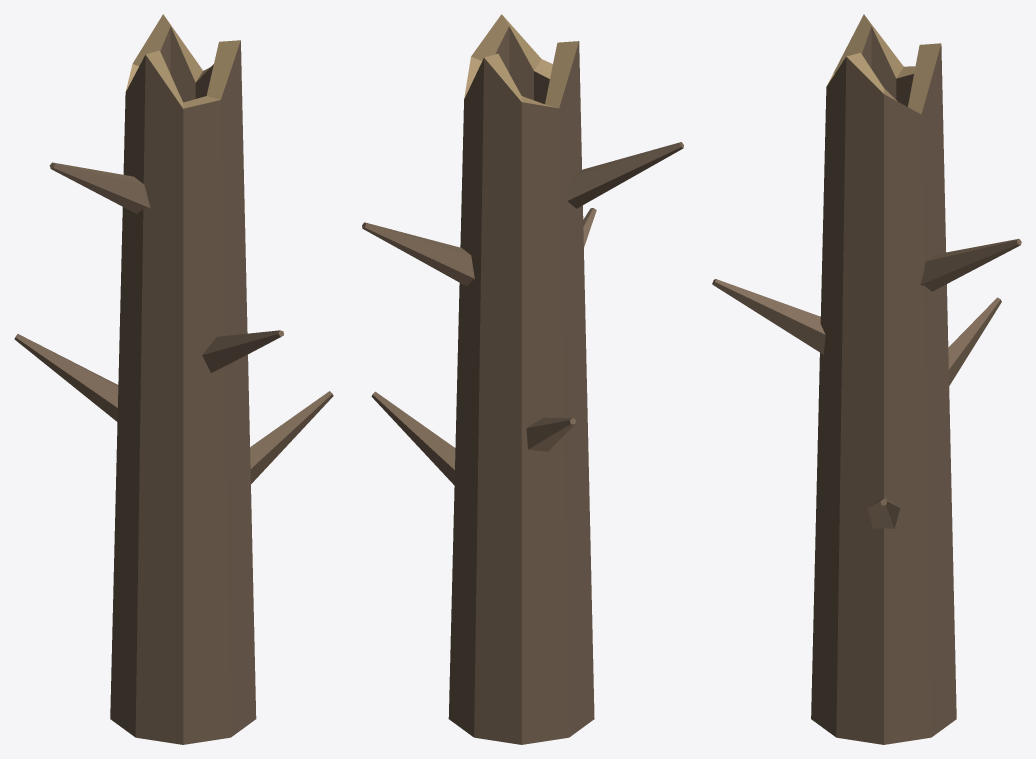
File: snag.glb
3 views of the same model, side by side, from view 1: azimuth 30°, elevation 25°; view 2: azimuth 150°, elevation 25°; view 3: azimuth 270°, elevation 25° (orthographic).
Visible parts, largest first — view 1: prop_snag_LOD0; view 2: prop_snag_LOD0; view 3: prop_snag_LOD0.
Boxes of the visible parts, <box> form: prop_snag_LOD0: <box>14,14,333,744</box>; prop_snag_LOD0: <box>362,14,683,744</box>; prop_snag_LOD0: <box>712,14,1021,744</box>.
Bounding box in the file's own units: 2.4 × 5.25 × 2.18.
